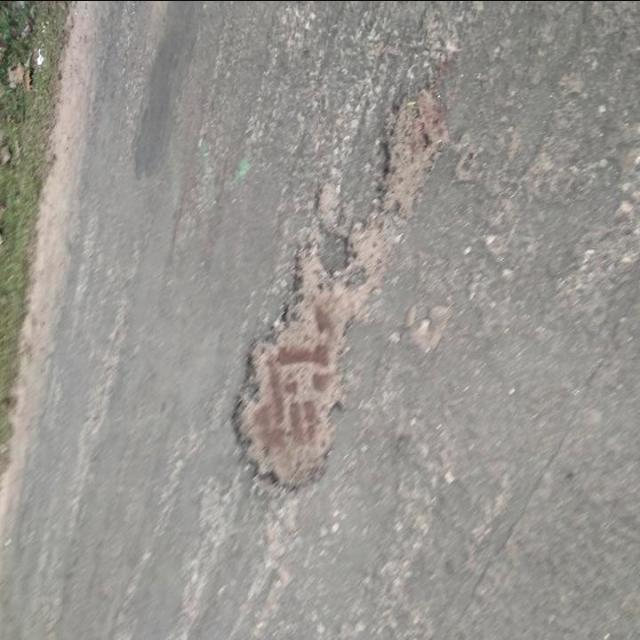pothole: (195, 72, 466, 504)
